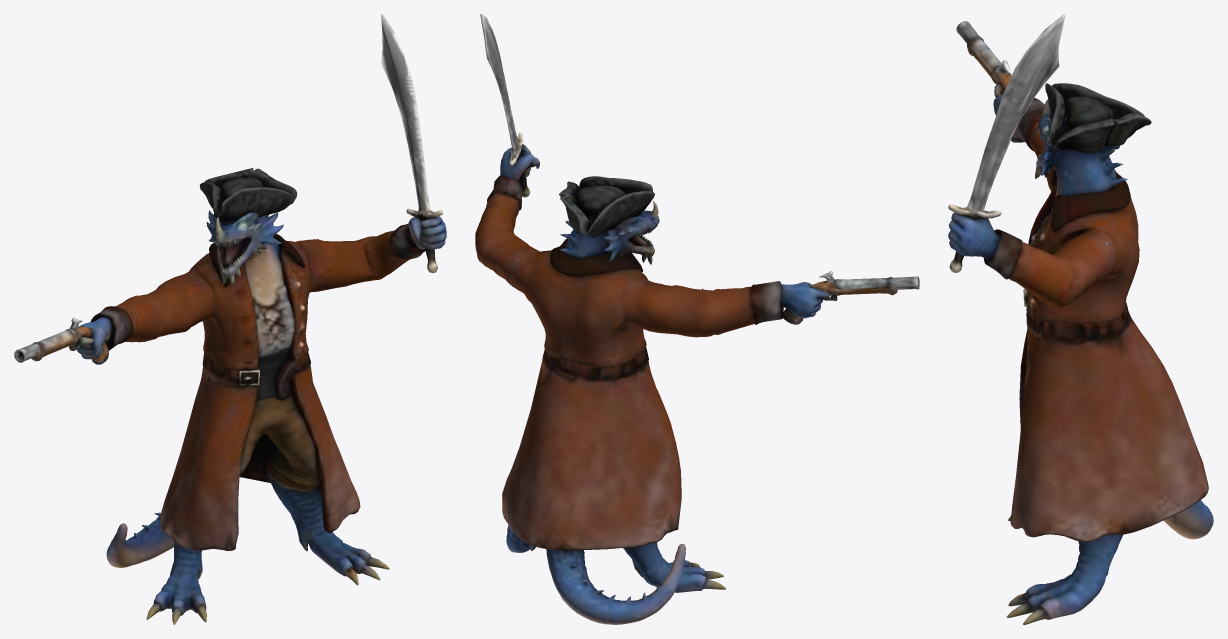
The model's file is MZ4250 - Dragonborn Pirate Captain.glb.
3 views of the same model, side by side, from view 1: azimuth 30°, elevation 25°; view 2: azimuth 150°, elevation 25°; view 3: azimuth 270°, elevation 25° (orthographic). The views are drawn at different scales.
Visible parts, largest first — view 1: Dragonborn Pirate.001; view 2: Dragonborn Pirate.001; view 3: Dragonborn Pirate.001.
Part boxes in pixels (left/top/right/bottom): Dragonborn Pirate.001: left=14, top=14, right=446, bottom=624; Dragonborn Pirate.001: left=475, top=14, right=919, bottom=624; Dragonborn Pirate.001: left=948, top=14, right=1213, bottom=624.
Bounding box in the file's own units: 107 × 129 × 50.
Materials: 1 (1 with a texture image).
